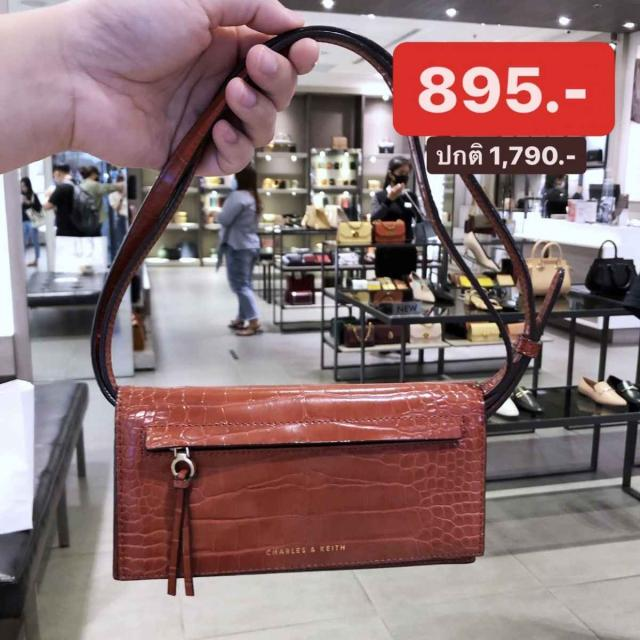handbag: (110, 379, 490, 586)
